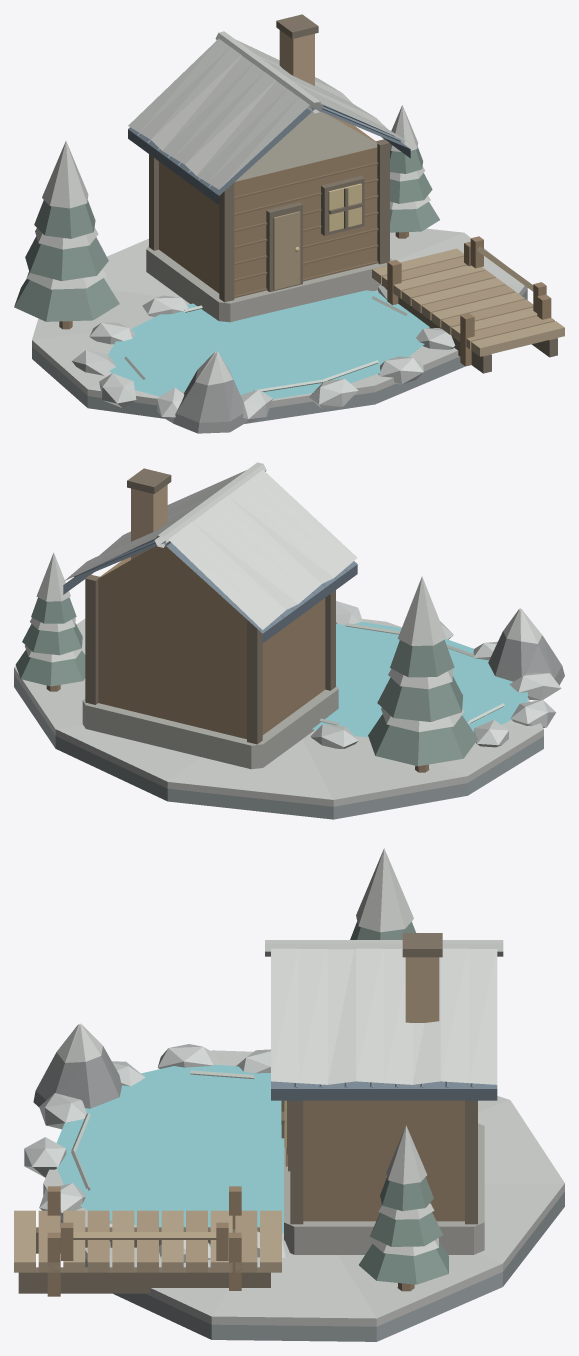
The picture shows the model from 3 angles, top to bottom: view 1: azimuth 30°, elevation 25°; view 2: azimuth 150°, elevation 25°; view 3: azimuth 270°, elevation 25°; orthographic projection. The views are drawn at different scales.
Parts seen in each view (by area): view 1: S12; view 2: S12; view 3: S12.
Boxes of the visible parts, x1=… form: S12: x1=14, y1=14, x2=564, y2=433; S12: x1=14, y1=462, x2=564, y2=819; S12: x1=14, y1=848, x2=564, y2=1341.
Size of the model in its own units: 4.9 by 2.65 by 4.26.
